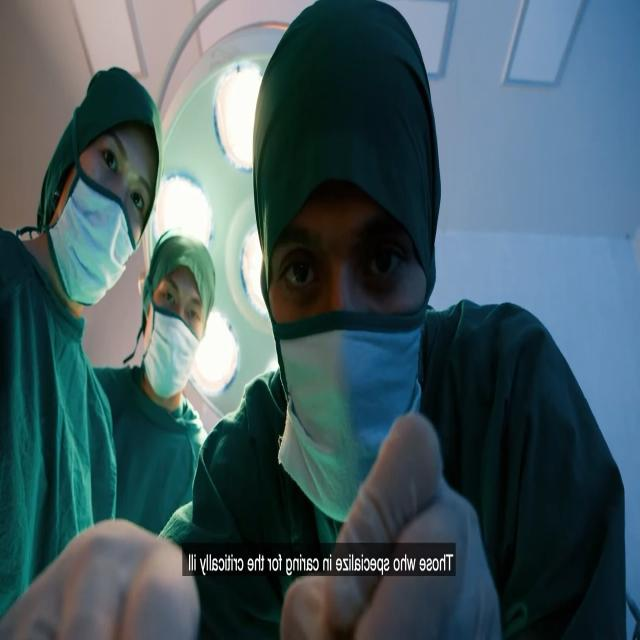Doctor: (235, 0, 476, 524), (134, 207, 220, 405)
Nurse: (30, 60, 164, 301)
